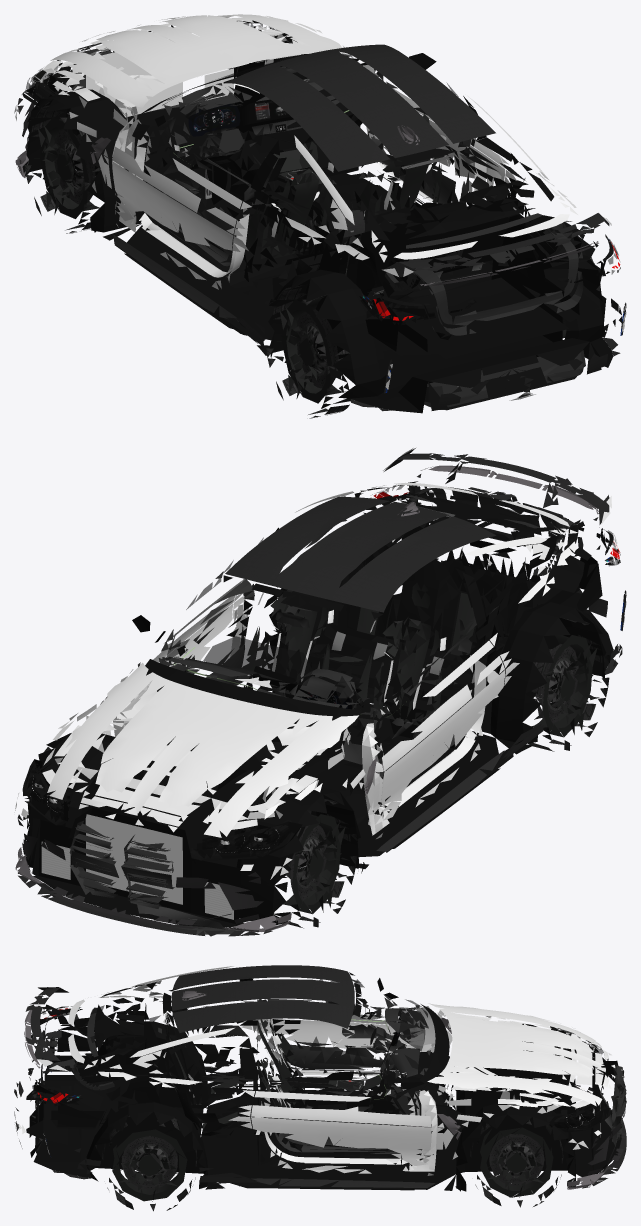
File: m4_traffic.glb
3 renders of one model, top to bottom at view 1: azimuth 30°, elevation 25°; view 2: azimuth 150°, elevation 25°; view 3: azimuth 270°, elevation 25°, orthographic. The views are drawn at different scales.
Visible parts, largest first — view 1: Object_11, Object_12, Paint, Object_6, Object_10, Object_7, Object_24, Wheel_LR, Wheel_LF, Object_19, Object_9, Object_15 (+4 smaller); view 2: Object_11, Object_6, Paint, Object_12, Object_7, Object_10, Object_5, Object_9, Wheel_LR, Object_25, Wheel_LF, Object_24 (+9 smaller); view 3: Object_11, Object_6, Object_12, Paint, Object_10, Wheel_RR, Wheel_RF, Object_7, Object_24, Object_25, Object_19, Object_4 (+7 smaller).
Boxes of the visible parts, x1,y1,x2,y2 form: Object_11: [22, 25, 613, 413]; Object_12: [144, 114, 598, 358]; Paint: [18, 44, 622, 411]; Object_6: [14, 14, 611, 397]; Object_10: [138, 66, 542, 295]; Object_7: [112, 136, 569, 400]; Object_24: [147, 60, 600, 410]; Wheel_LR: [266, 285, 350, 418]; Wheel_LF: [24, 105, 100, 233]; Object_19: [246, 114, 444, 258]; Object_9: [86, 39, 233, 117]; Object_15: [188, 100, 290, 136]; Object_11: [22, 485, 613, 928]; Object_6: [14, 448, 578, 879]; Paint: [18, 448, 622, 936]; Object_12: [162, 481, 602, 825]; Object_7: [230, 482, 611, 821]; Object_10: [138, 495, 540, 778]; Object_5: [37, 820, 244, 934]; Object_9: [41, 814, 233, 919]; Wheel_LR: [528, 617, 609, 751]; Object_25: [165, 491, 521, 704]; Wheel_LF: [273, 799, 357, 928]; Object_24: [157, 474, 600, 805]; Object_11: [26, 972, 621, 1191]; Object_6: [19, 966, 615, 1175]; Object_12: [45, 997, 455, 1169]; Paint: [14, 965, 626, 1188]; Object_10: [87, 994, 430, 1153]; Wheel_RR: [102, 1115, 197, 1211]; Wheel_RF: [470, 1119, 563, 1207]; Object_7: [22, 987, 431, 1162]; Object_24: [14, 979, 410, 1162]; Object_25: [90, 979, 425, 1071]; Object_19: [256, 999, 382, 1137]; Object_4: [24, 990, 606, 1189].
Size of the model in its own units: 1.95 by 1.44 by 4.57.
Materials: 23 (13 with a texture image).
